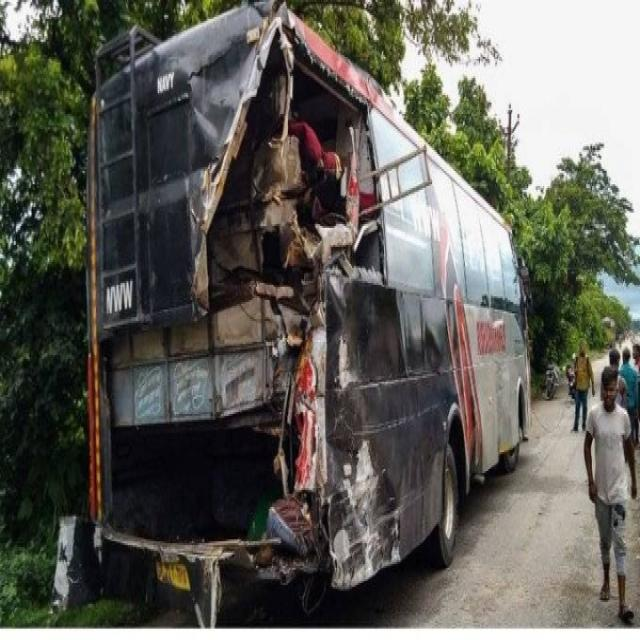accident: (88, 0, 530, 624)
